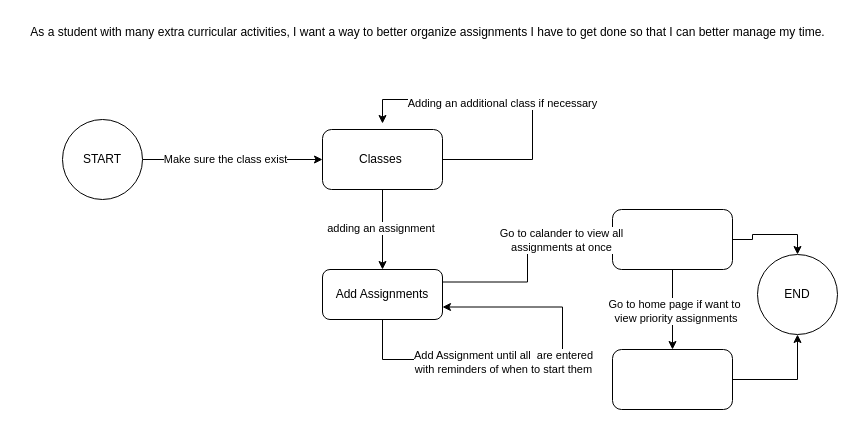
The diagram is 855 pixels wide and 427 high, and some of its shapes have lost their labels. The box of each missing label's shape, as (x1, y1, x2, y2) in pixels:
Calendar: (612, 208, 732, 270)
Home: (612, 348, 732, 410)
